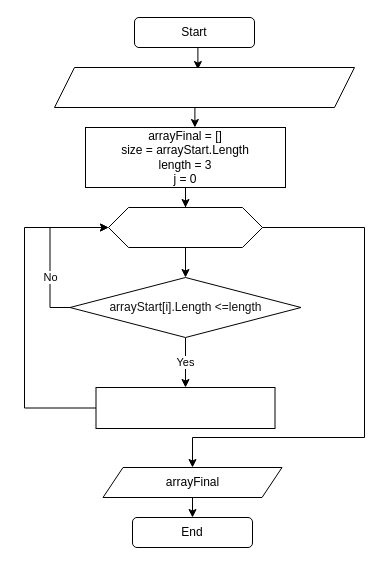
This 390x565 diagram has some shape labels left out. The centre of each missing label's shape, as x and y in pixels:
"arrayFinal[j] = arrayStart[i] j++" goes at (x=185, y=407).
"arrayStart = [“1234”, “1567”, “-2”, “computer”]" goes at (x=204, y=87).
"i = 0; i < size; i++" goes at (x=185, y=227).
